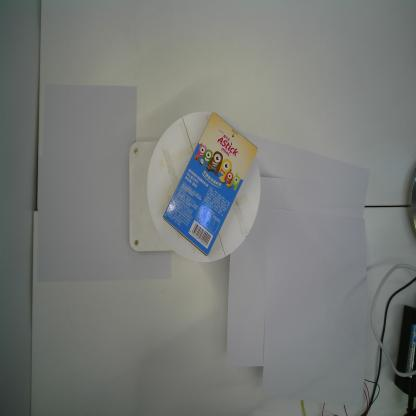Dessert: (163, 112, 258, 256)
